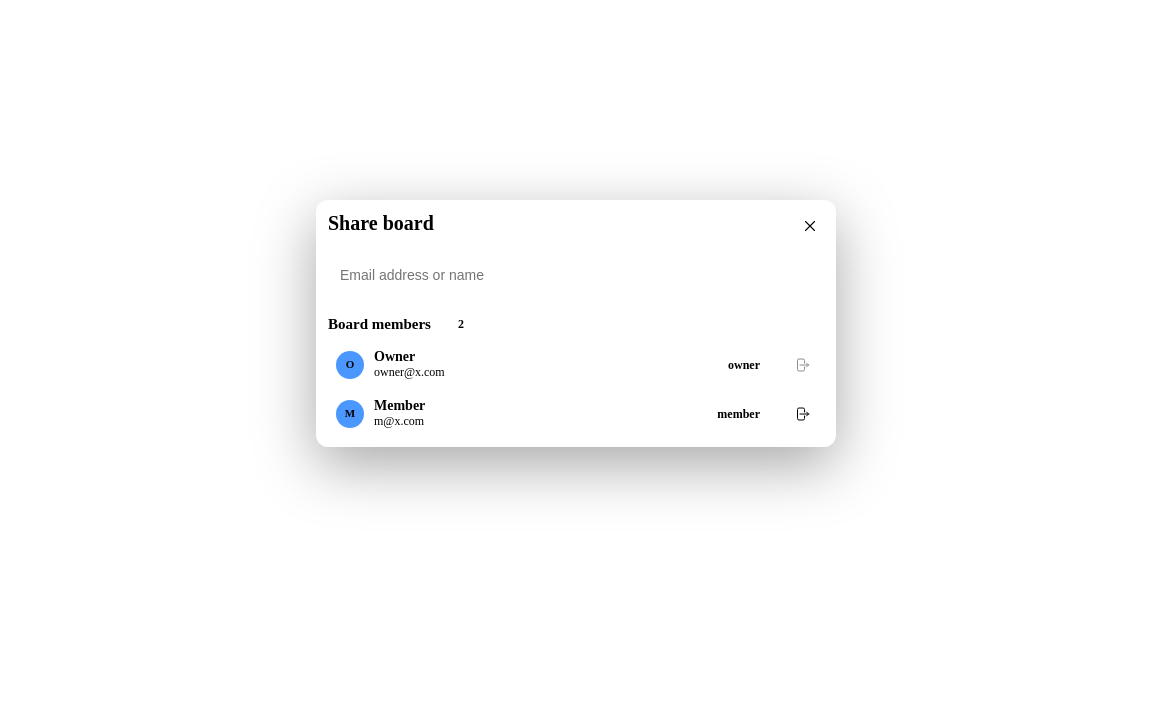
Test: ShareModal › backdrop click closes only if no confirmation overlay
This screenshot has width=1152, height=720.
expect the text "Member" is shown: met, box [374,398,425,414]
Click the button named "Remove m@x.com". click: (802, 414)
box: [788,400,816,428]
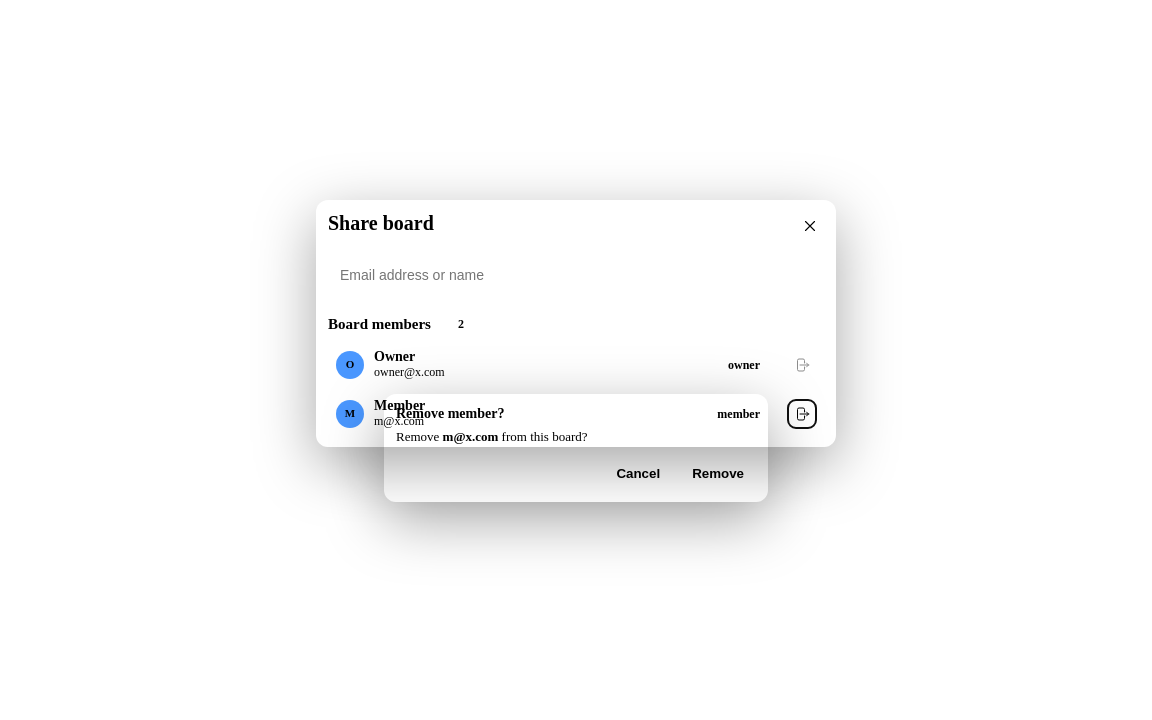
expect the dialog named "Confirm remove member" is shown: met, box [384,394,768,502]
